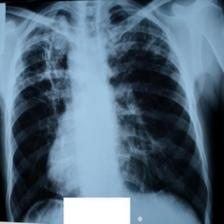tuberculosis: (4, 7, 212, 224)
